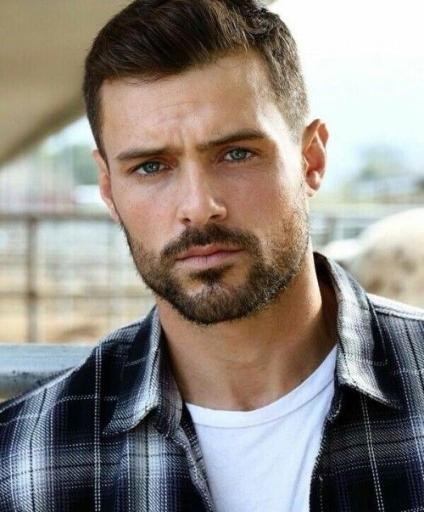left_eye: (216, 146, 264, 169)
left_lip_corner: (229, 242, 249, 265)
right_eye: (128, 159, 175, 181)
right_lip_corner: (172, 253, 188, 273)
